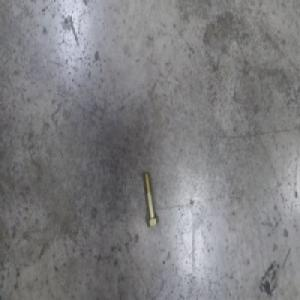Bolt: (142, 172, 160, 229)
